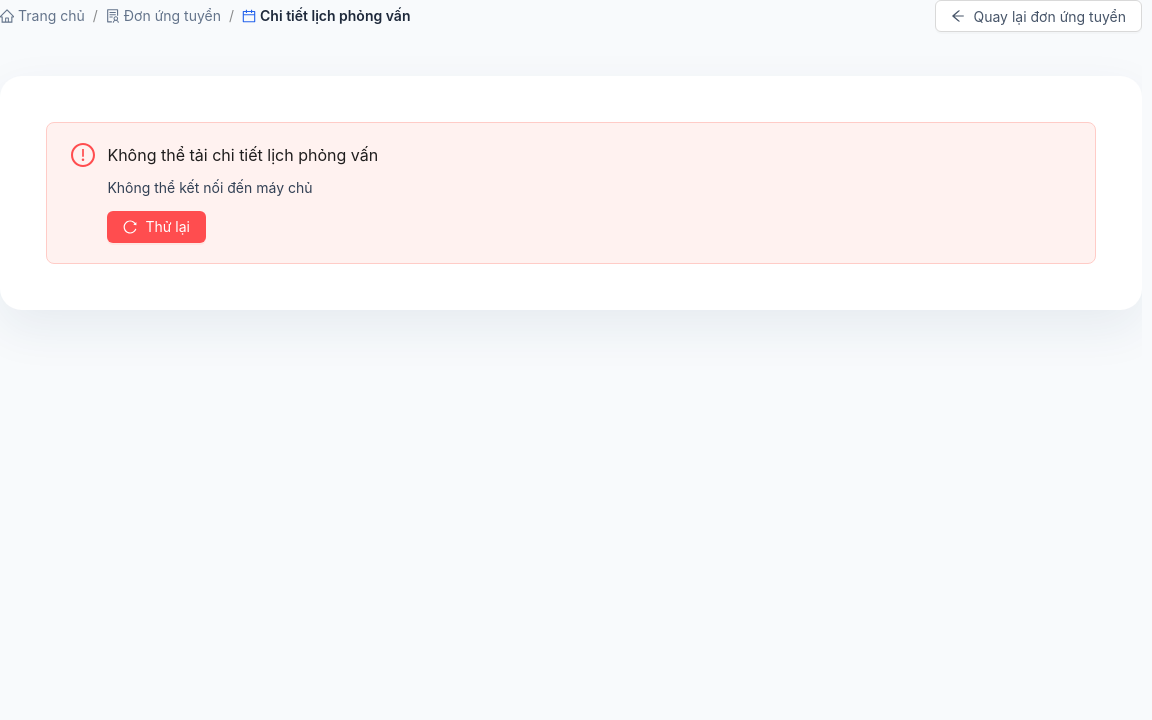
Test case: CandidateInterviewDetailPage & CandidateInterviewDetailView › renders error state with retry button when query fails
The width and height of the screenshot is (1152, 720).
Expected: the element with test id "interview-detail-error" is shown, [22,98,1120,288]
Expected: the text "Không thể kết nối đến máy chủ" is shown, [107,178,312,196]
What coordinates should you click on to do the following:
click the button "Thử lại"
I would click on:
 (157, 226)
Its box is [107,210,206,242].
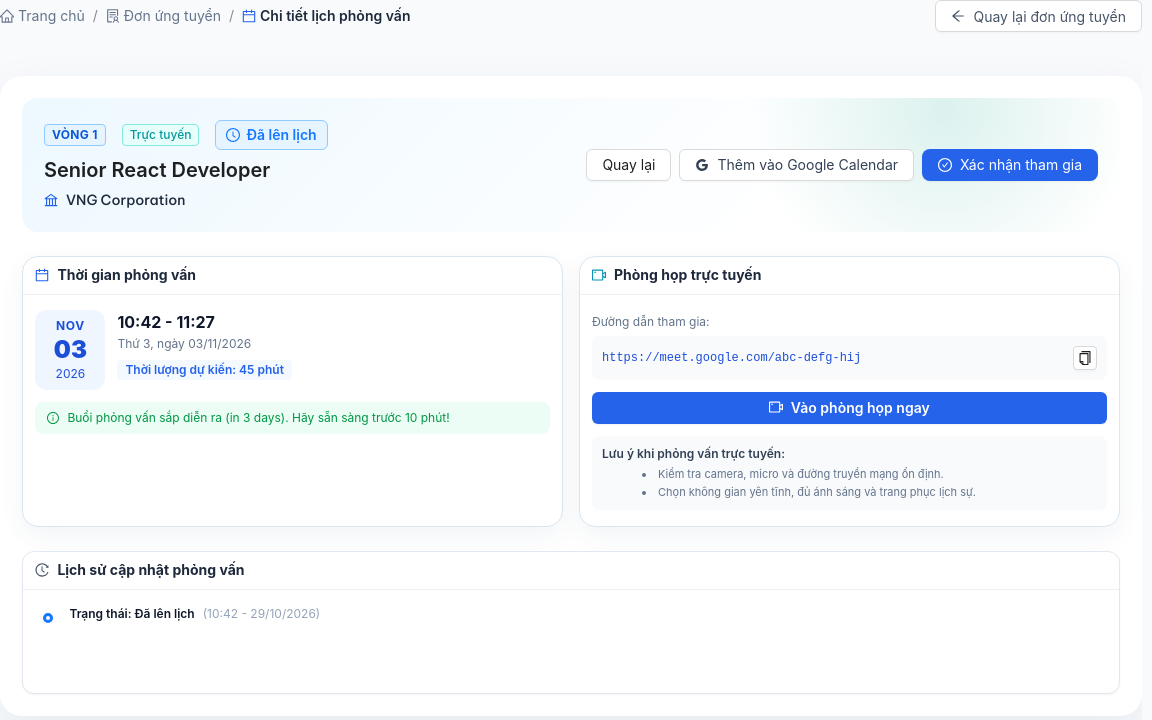
Now the element with test id "interview-detail-content" is shown
